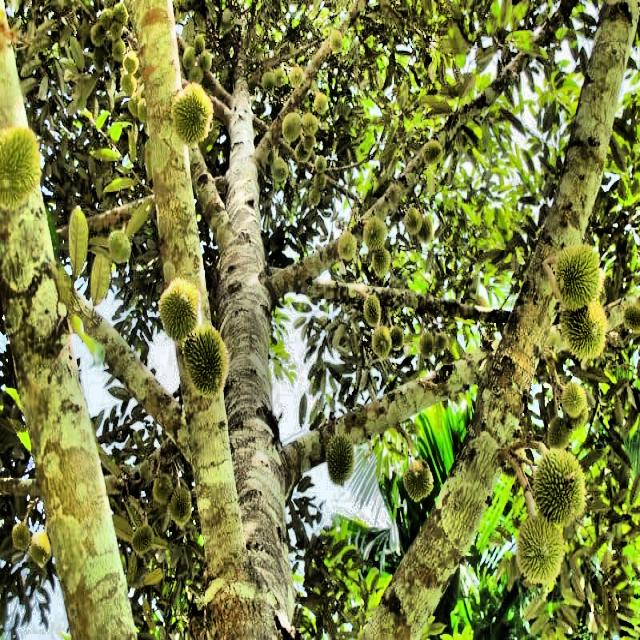arvore: (169, 27, 308, 640)
